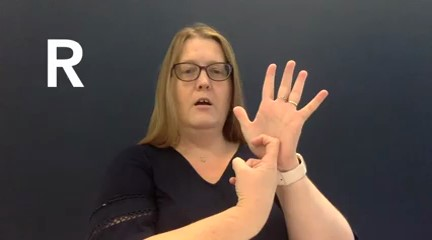R: (225, 52, 334, 211)
